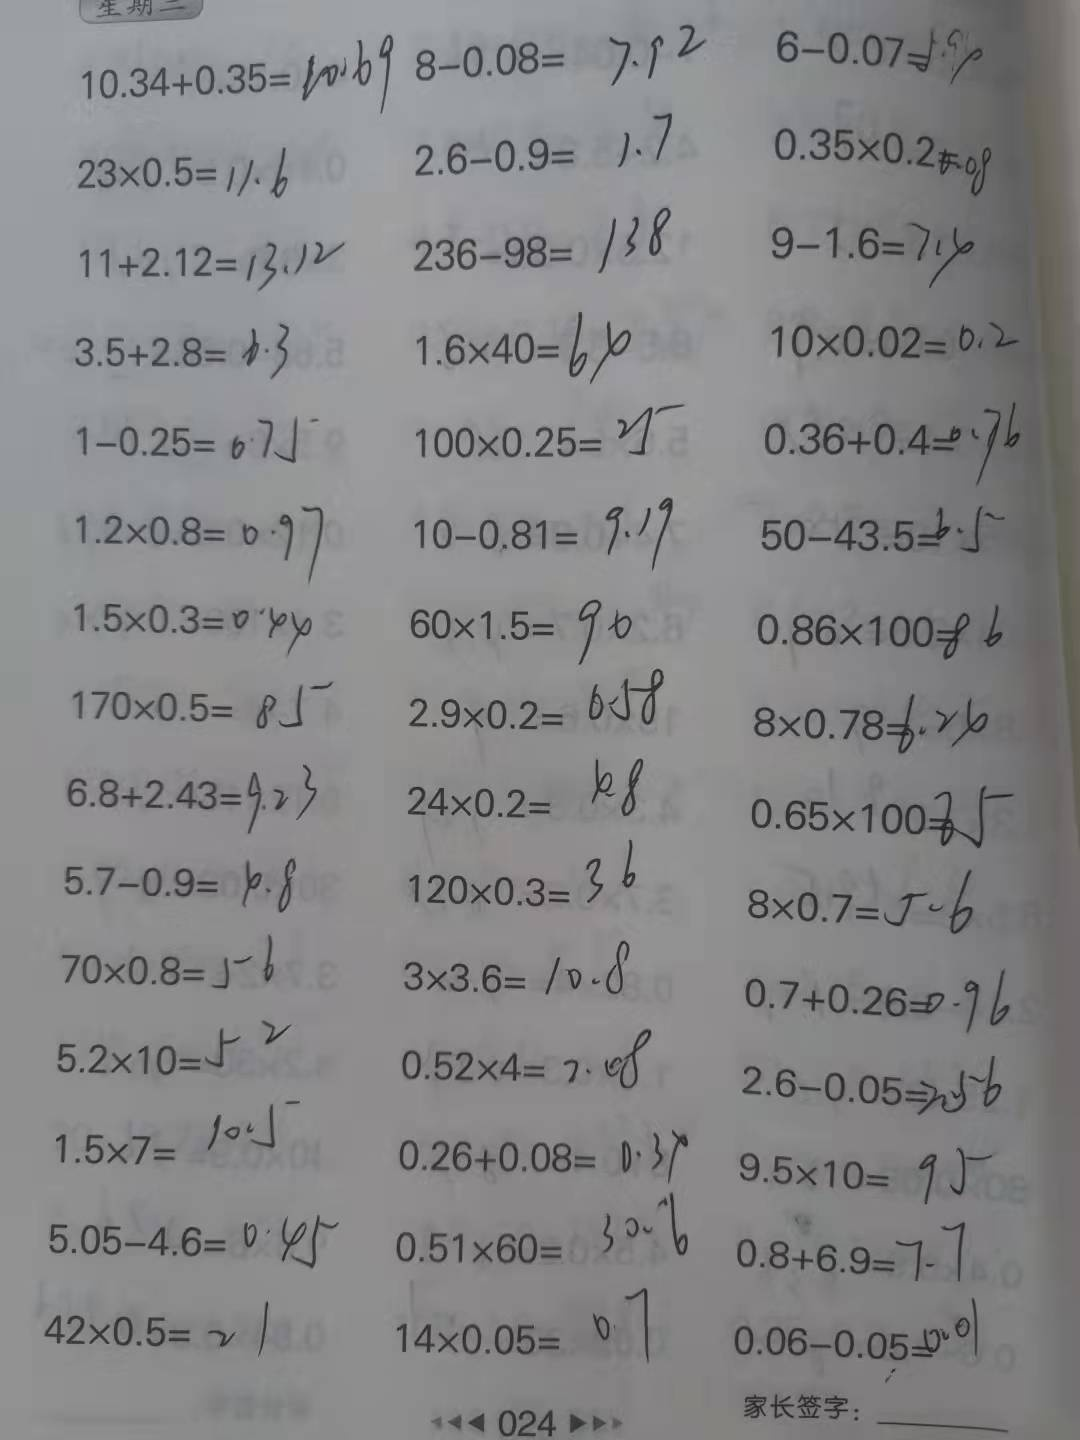equation: (71, 28, 400, 122), (386, 1102, 697, 1191), (389, 1196, 701, 1279), (408, 478, 677, 574), (757, 395, 1031, 488), (739, 955, 1026, 1042), (728, 1042, 1013, 1129), (751, 107, 999, 201), (50, 1089, 301, 1181), (61, 499, 334, 583), (740, 783, 1023, 863), (406, 11, 710, 85), (736, 1211, 981, 1301), (410, 204, 683, 283), (408, 104, 680, 183), (36, 1209, 352, 1276), (737, 494, 1018, 569), (395, 836, 663, 914), (413, 297, 634, 391), (404, 661, 677, 737), (753, 591, 1022, 668), (389, 1289, 657, 1365), (69, 220, 347, 293), (56, 590, 334, 662), (52, 763, 329, 836), (398, 931, 655, 1009), (750, 864, 977, 950), (729, 691, 1007, 761), (397, 749, 653, 825), (398, 1025, 664, 1098), (414, 398, 689, 467), (723, 1295, 996, 1364), (54, 401, 324, 471), (54, 846, 305, 920), (31, 1304, 320, 1367), (754, 300, 1024, 369), (398, 592, 642, 667), (45, 1005, 296, 1077), (773, 17, 996, 95), (66, 135, 299, 207), (768, 213, 981, 290), (68, 315, 302, 386), (47, 932, 290, 999), (731, 1140, 996, 1200), (65, 677, 337, 734)
